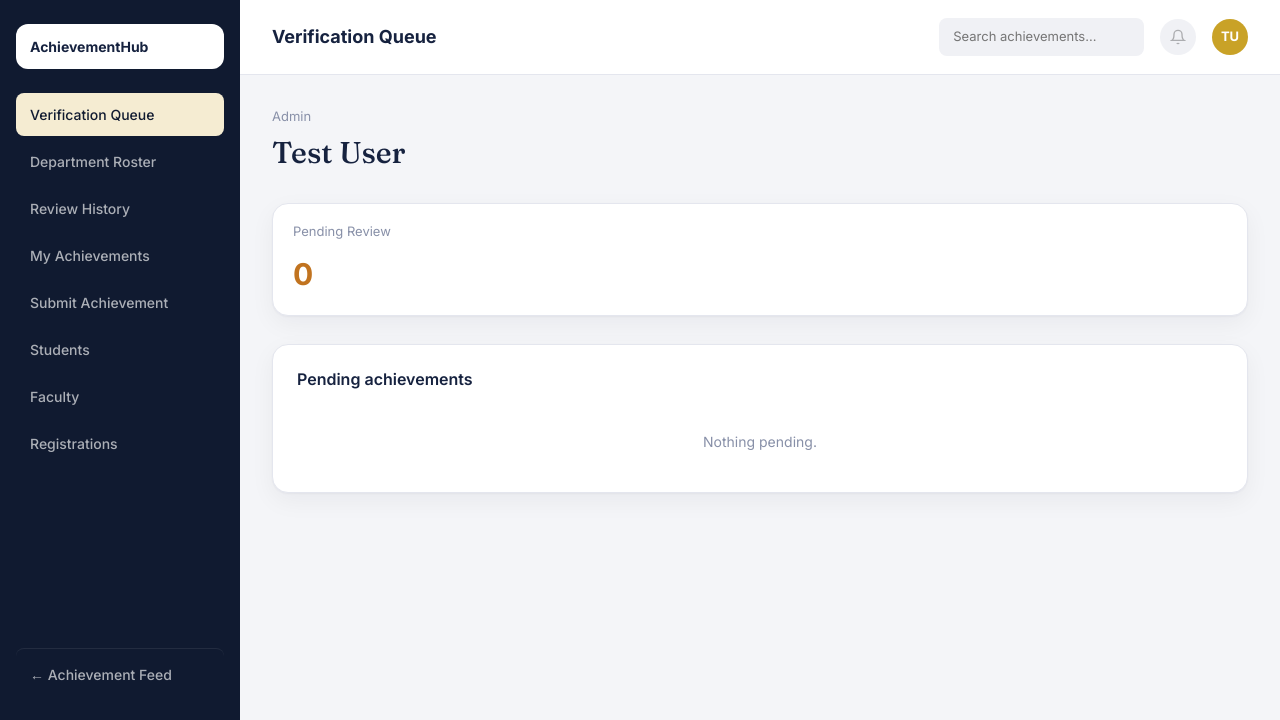
Test: Review History availability › opens a working history panel for admin
Click the button "Review History". click: (120, 208)
box: [16,187,224,230]
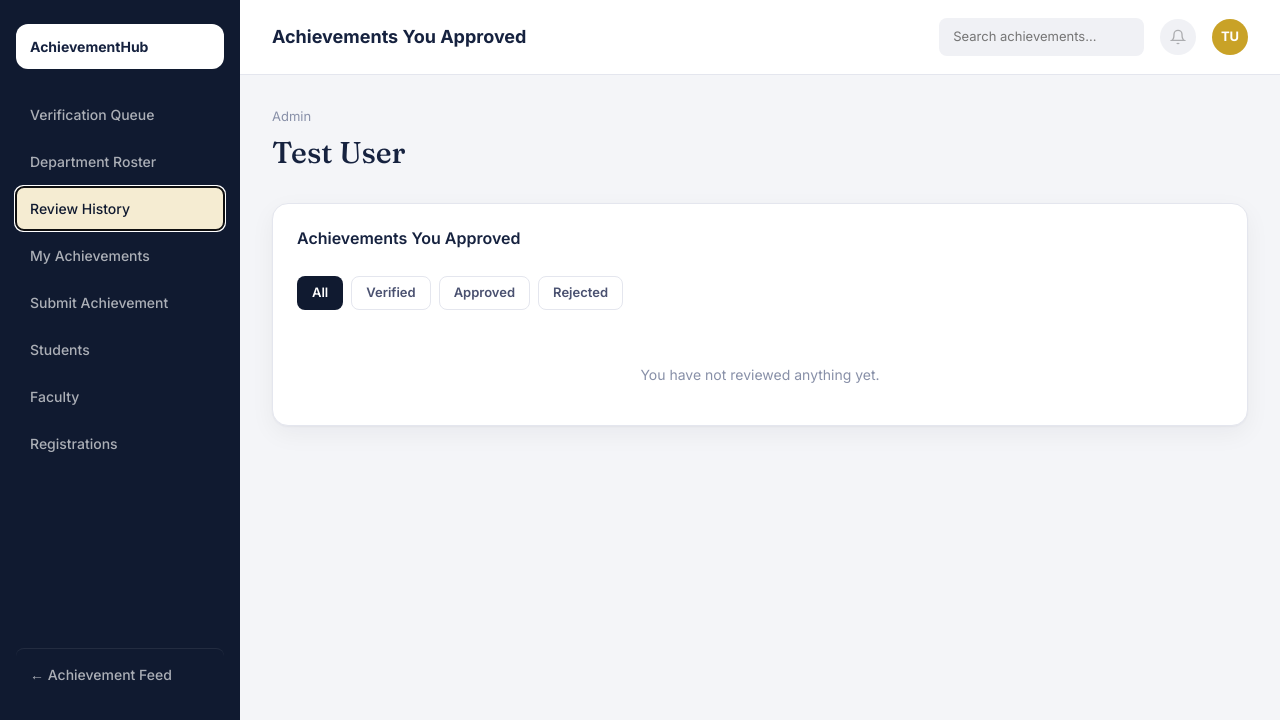
Result: the heading "Achievements You Approved" is shown at [297,226,520,250]
